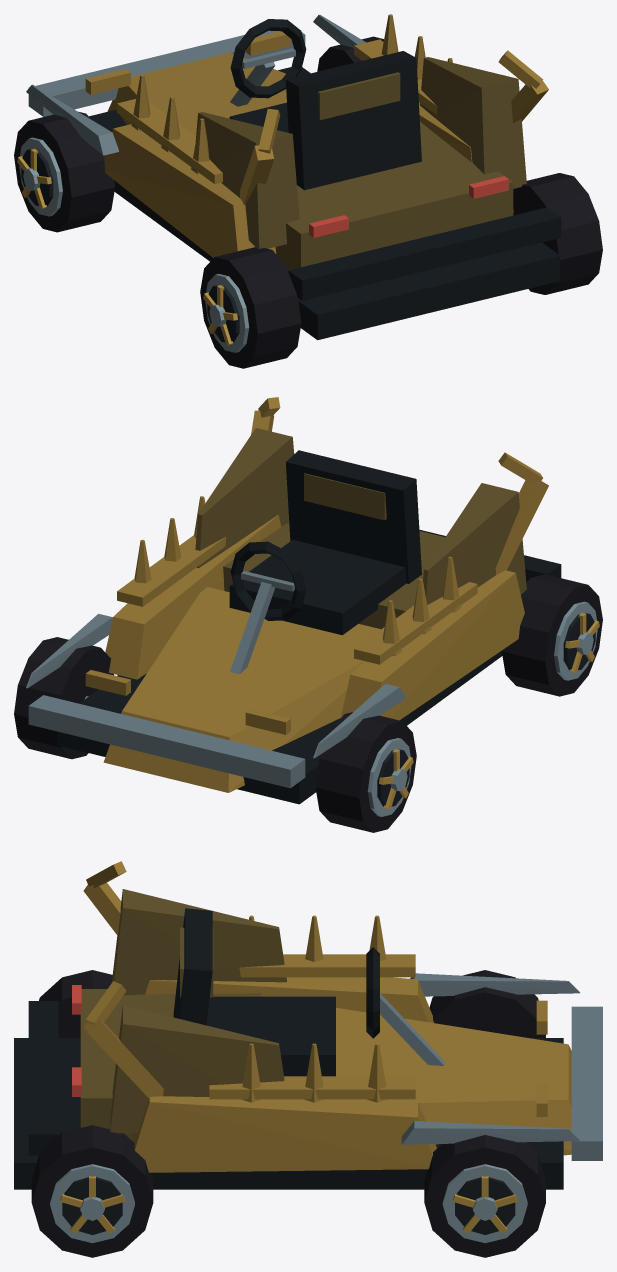
File: kart.glb
The picture shows the model from 3 angles, top to bottom: view 1: azimuth 30°, elevation 25°; view 2: azimuth 150°, elevation 25°; view 3: azimuth 270°, elevation 25°; orthographic projection. The views are drawn at different scales.
Parts seen in each view (by area): view 1: chassis, wheel-rear-left, wheel-front-left, wheel-rear-right, wheel-front-right; view 2: chassis, wheel-front-left, wheel-rear-left, wheel-front-right; view 3: chassis, wheel-rear-right, wheel-front-right, wheel-front-left, wheel-rear-left.
Boxes of the visible parts, <box> form: chassis: <box>26,14,561,340</box>; wheel-rear-left: <box>200,247,301,368</box>; wheel-front-left: <box>14,111,115,232</box>; wheel-rear-right: <box>513,173,602,294</box>; wheel-front-right: <box>317,36,383,71</box>; chassis: <box>26,397,561,804</box>; wheel-front-left: <box>315,712,416,832</box>; wheel-rear-left: <box>501,574,602,696</box>; wheel-front-right: <box>14,637,113,759</box>; chassis: <box>14,861,602,1189</box>; wheel-rear-right: <box>31,1125,153,1257</box>; wheel-front-right: <box>424,1135,545,1257</box>; wheel-front-left: <box>429,970,545,1037</box>; wheel-rear-left: <box>39,970,112,1037</box>.
Size of the model in its own units: 2.31 by 1.38 by 3.
